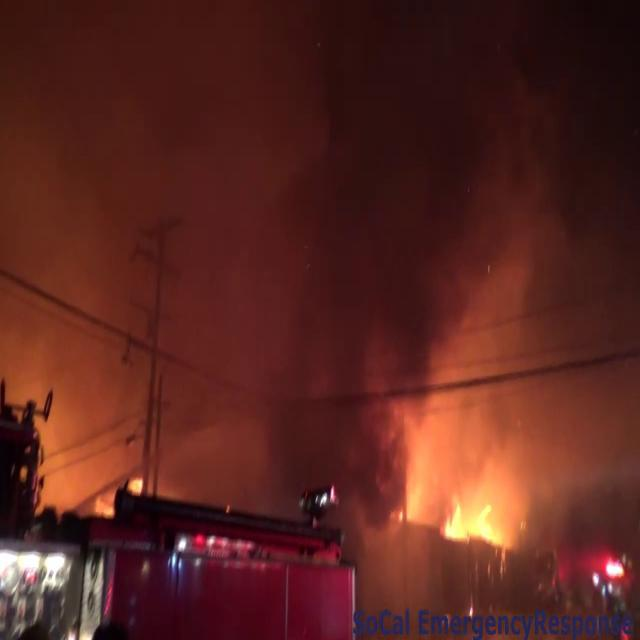Fire: (438, 477, 520, 554)
Smoke: (0, 2, 640, 465)
